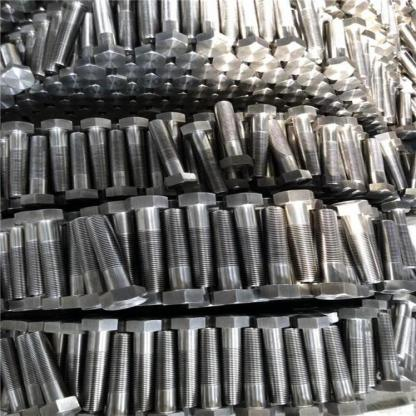FOD: (88, 216, 148, 317), (311, 206, 360, 302), (147, 118, 196, 189), (15, 132, 58, 207), (216, 100, 250, 172)
